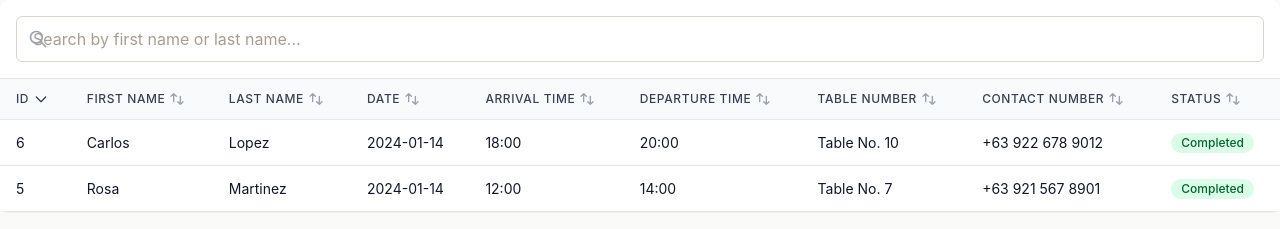
Test: HistoryTable › should filter by last name
Type "Lopez" into the field with placeholder "Search by first name or last name...".
click(640, 39); type("Lopez")  # box x1=16 y1=16 x2=1264 y2=62
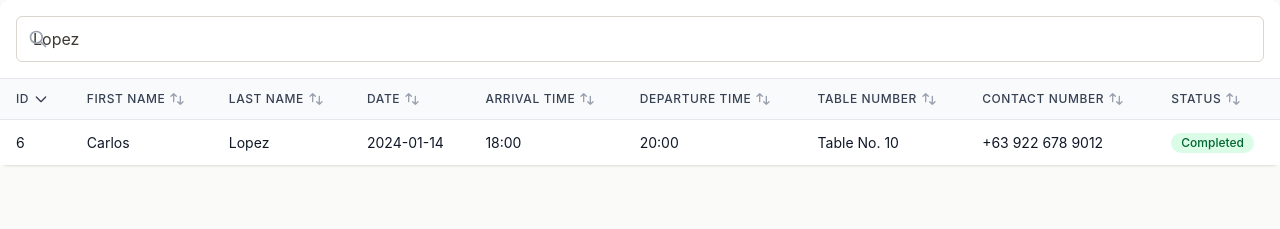
Expected: the text "Carlos" is shown, x1=71 y1=120 x2=213 y2=165
Result: the text "Rosa" is gone
